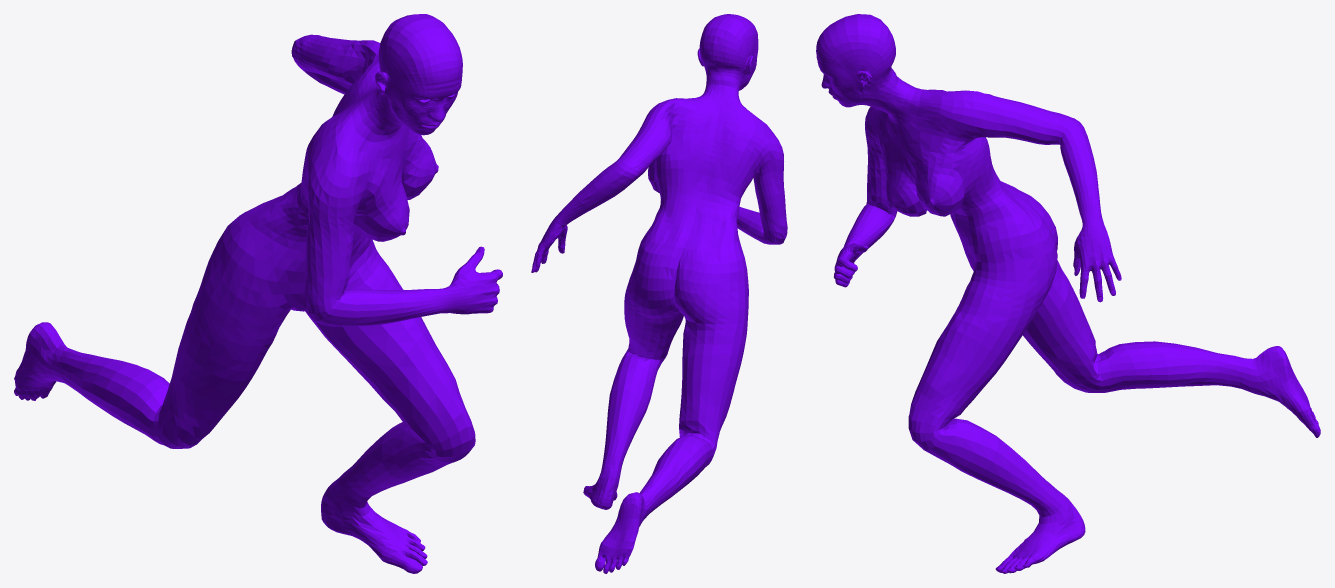
The model's file is running-woman.obj.
3 views of the same model, side by side, from view 1: azimuth 30°, elevation 25°; view 2: azimuth 150°, elevation 25°; view 3: azimuth 270°, elevation 25° (orthographic). The views are drawn at different scales.
Parts seen in each view (by area): view 1: base.obj; view 2: base.obj; view 3: base.obj.
Part boxes in pixels (box(x1,y1,x2,y2)): base.obj: box(14, 14, 502, 573); base.obj: box(531, 14, 787, 573); base.obj: box(816, 14, 1320, 573).
Bounding box in the file's own units: 6.29 × 14.58 × 12.77.
